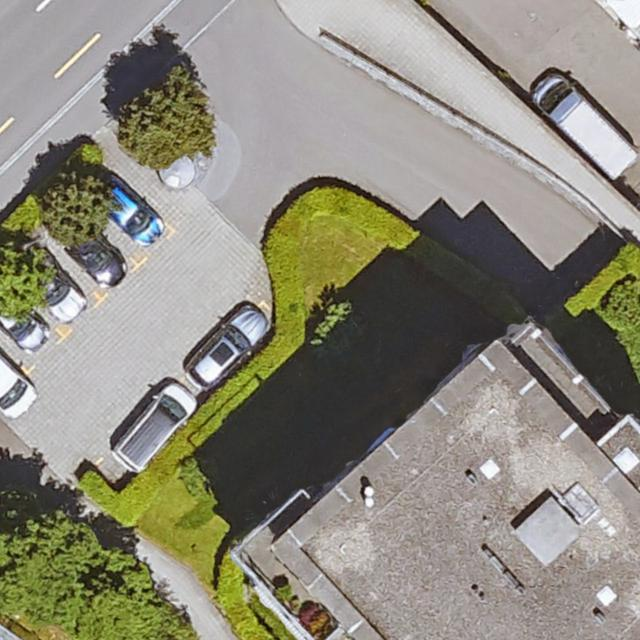tree: (1, 514, 100, 617), (117, 76, 214, 172), (75, 555, 181, 640), (44, 178, 113, 243), (311, 304, 378, 368), (0, 246, 53, 319)
